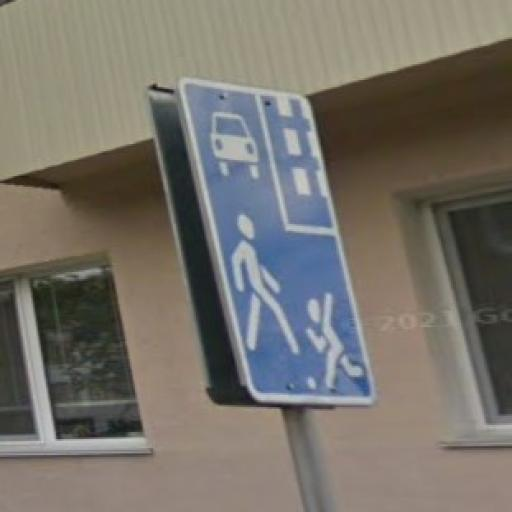traffic_sign: (178, 79, 377, 410)
